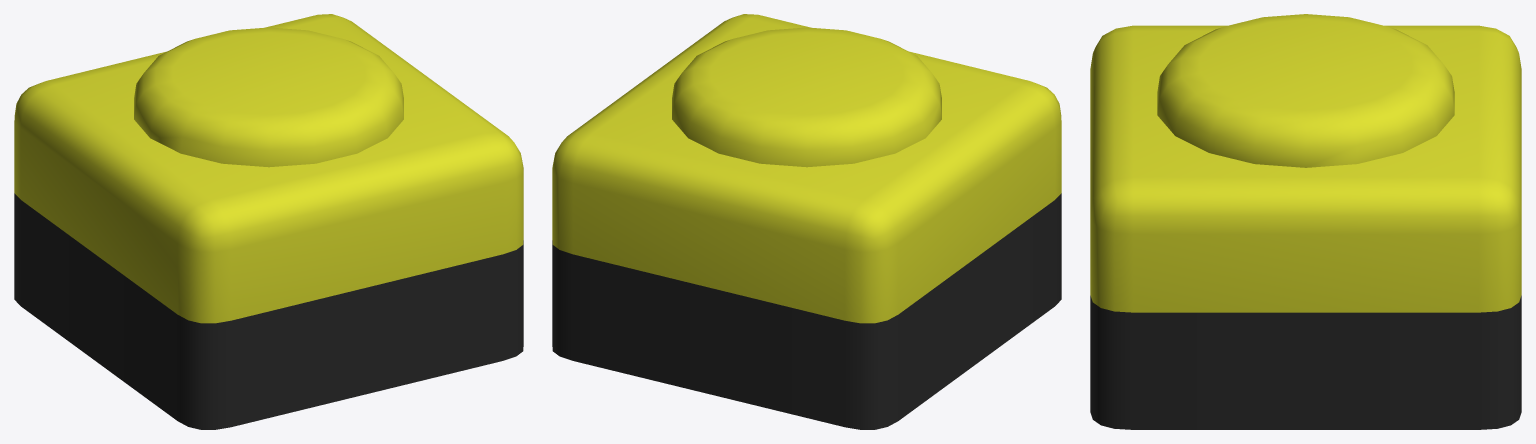
File: ButtonCase.fbx
3 views of the same model, side by side, from view 1: azimuth 30°, elevation 25°; view 2: azimuth 150°, elevation 25°; view 3: azimuth 270°, elevation 25° (orthographic). The views are drawn at different scales.
Visible parts, largest first — view 1: ButtonCase; view 2: ButtonCase; view 3: ButtonCase.
Boxes of the visible parts, x1,y1,x2,y2 form: ButtonCase: (14,14,523,429); ButtonCase: (552,14,1061,429); ButtonCase: (1090,14,1521,429).
Bounding box in the file's own units: 0.5 × 0.35 × 0.5.
